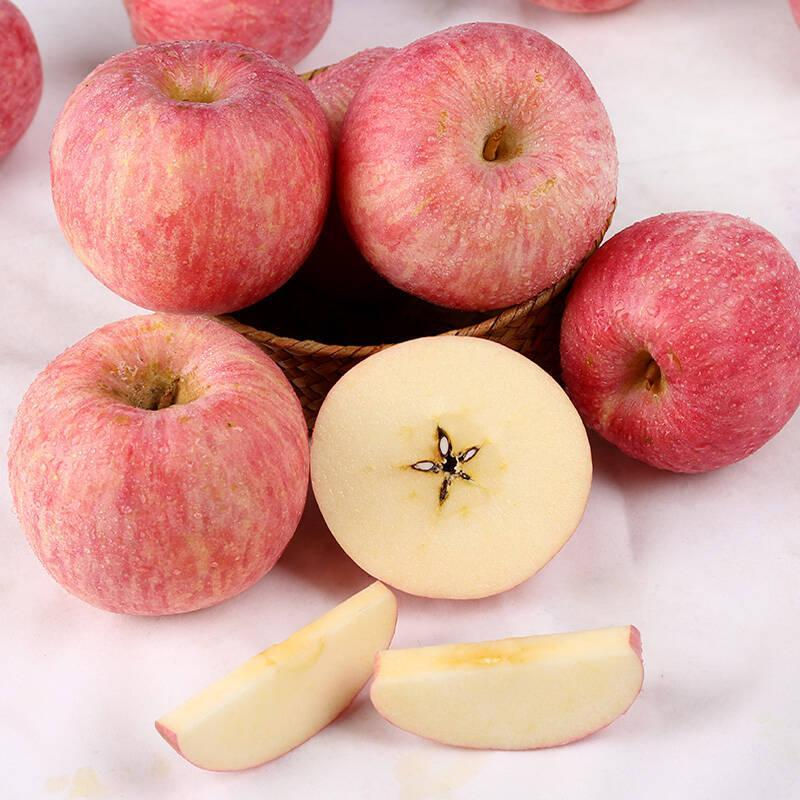apple: (9, 315, 309, 619), (42, 34, 336, 319), (337, 20, 619, 310), (555, 207, 797, 476)
